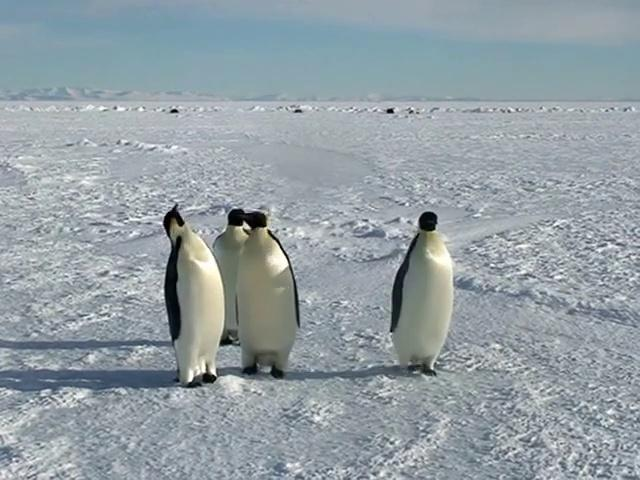animal: (391, 211, 452, 374)
